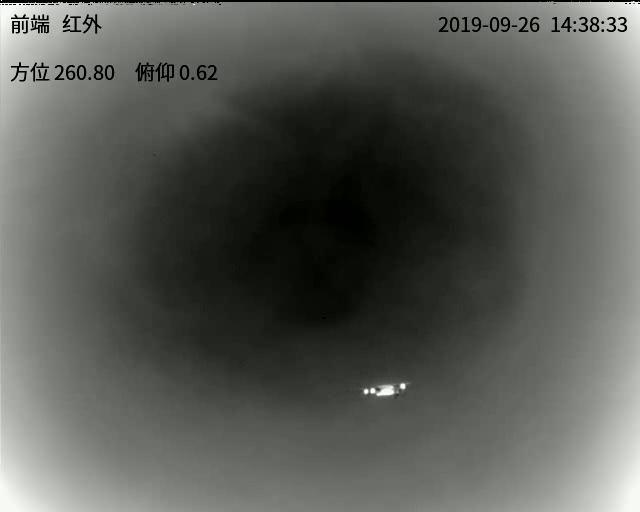DRONE: (360, 381, 408, 399)
